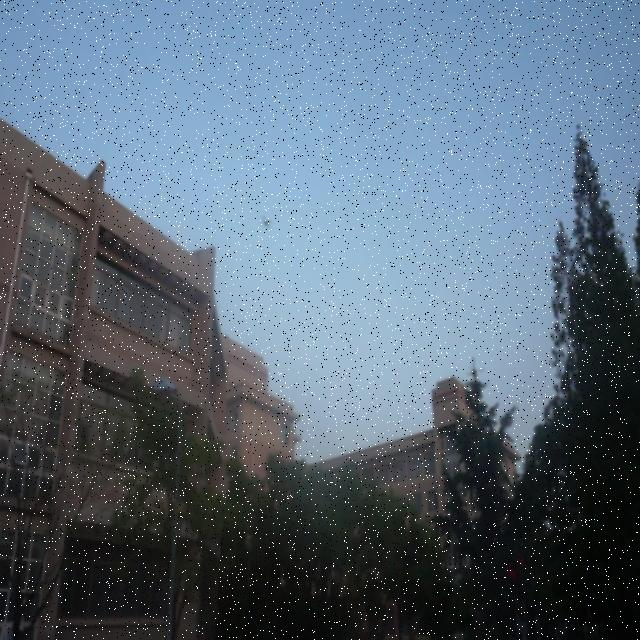UAV: (260, 216, 272, 230)
